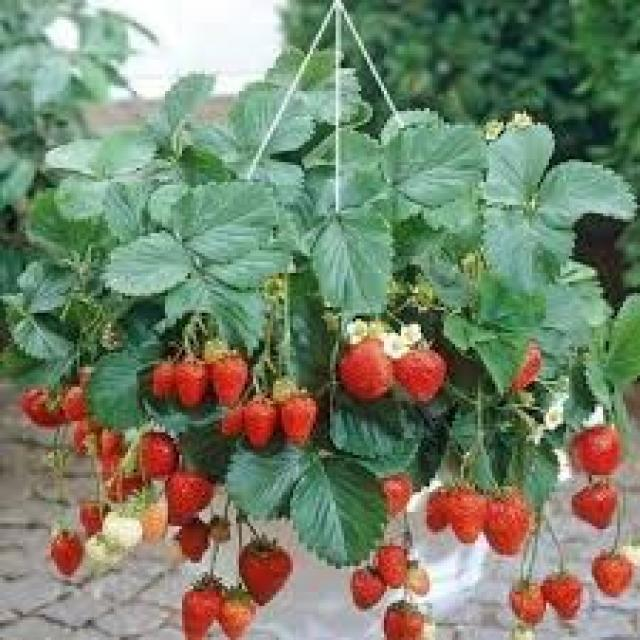Fruta sana: (331, 326, 396, 399), (477, 493, 535, 558), (398, 347, 454, 412), (241, 540, 288, 604), (164, 471, 214, 528), (204, 348, 247, 408), (504, 331, 544, 391), (576, 430, 624, 478), (590, 547, 634, 598), (182, 580, 220, 638), (542, 569, 585, 620), (374, 536, 417, 586), (453, 482, 486, 547), (242, 393, 278, 452), (568, 488, 618, 530), (134, 434, 177, 482), (46, 526, 84, 580), (23, 384, 68, 429), (278, 390, 316, 442), (384, 597, 427, 640), (223, 584, 257, 638), (512, 582, 548, 628), (95, 426, 125, 481), (173, 522, 212, 564), (58, 373, 90, 423), (171, 358, 205, 402), (350, 564, 386, 604), (148, 354, 176, 404), (217, 391, 246, 439), (382, 472, 416, 512), (76, 495, 110, 533), (431, 481, 451, 529), (74, 424, 102, 456)
